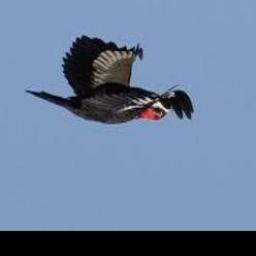Woodpecker: (24, 35, 193, 125)
